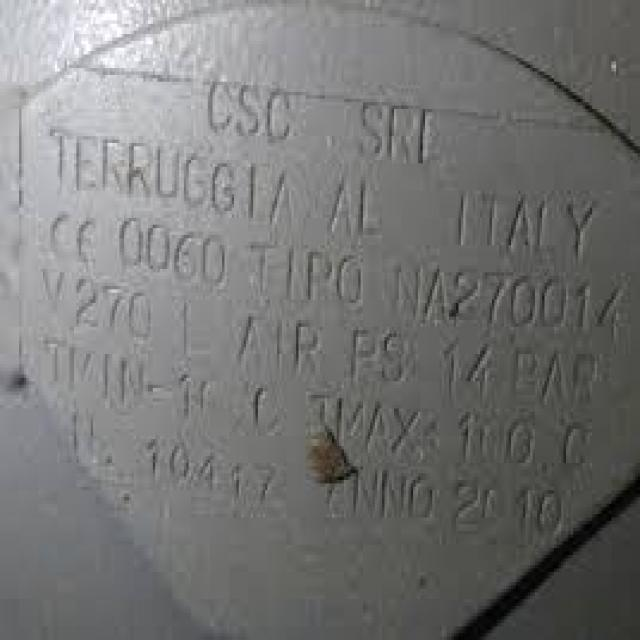ocr: (13, 69, 630, 541)
